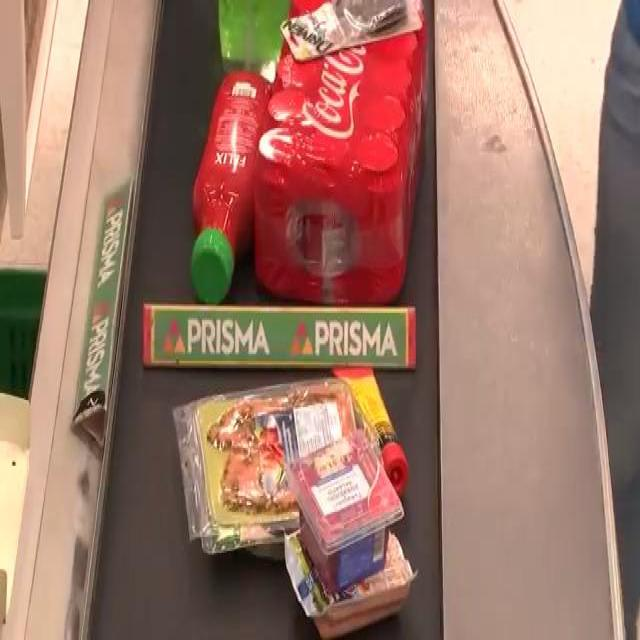beverage: (266, 4, 430, 294)
food-box: (200, 365, 364, 563), (197, 71, 272, 288), (304, 525, 432, 616), (311, 443, 393, 581), (342, 363, 418, 496)
utility-box: (297, 0, 438, 55)
